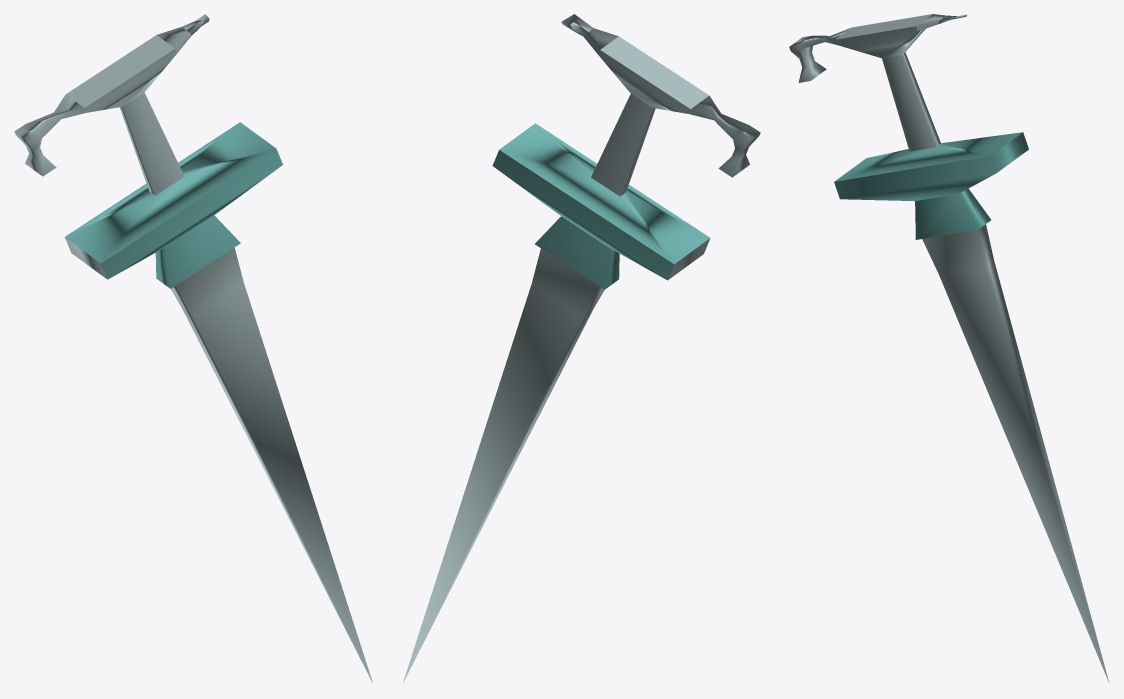
Rendered from Sword.fbx.
The picture shows the model from 3 angles, left to right: view 1: azimuth 30°, elevation 25°; view 2: azimuth 150°, elevation 25°; view 3: azimuth 330°, elevation 25°; orthographic projection. The views are drawn at different scales.
Visible parts, largest first — view 1: Sword; view 2: Sword; view 3: Sword.
Boxes of the visible parts, bbox=[...] form: Sword: bbox=[14, 14, 372, 682]; Sword: bbox=[402, 14, 760, 683]; Sword: bbox=[789, 14, 1109, 683].
Bounding box in the file's own units: 192 × 370 × 34.28.
